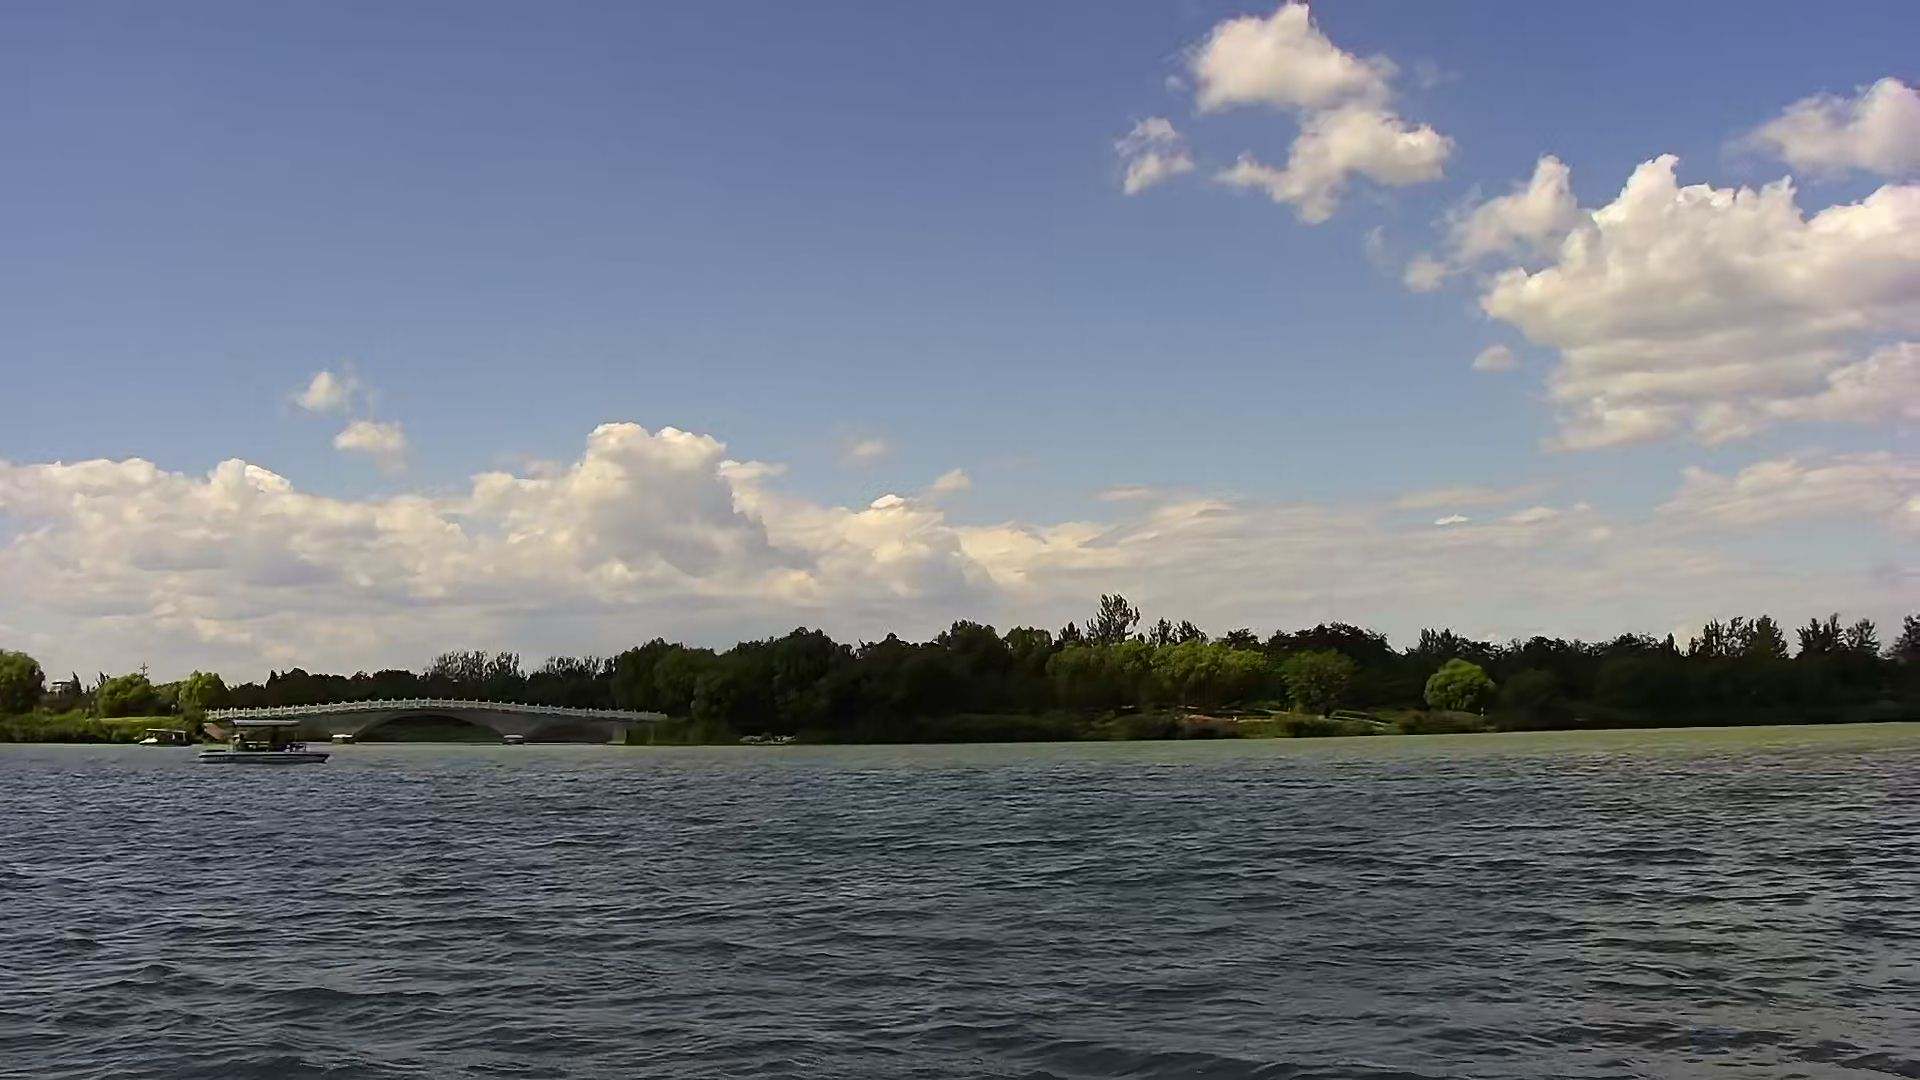boat: (196, 709, 330, 769)
bridge: (252, 702, 654, 754)
